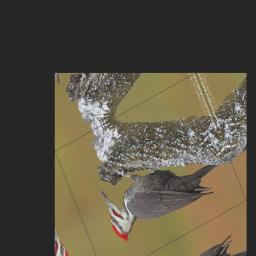Woodpecker: (94, 120, 229, 247)
